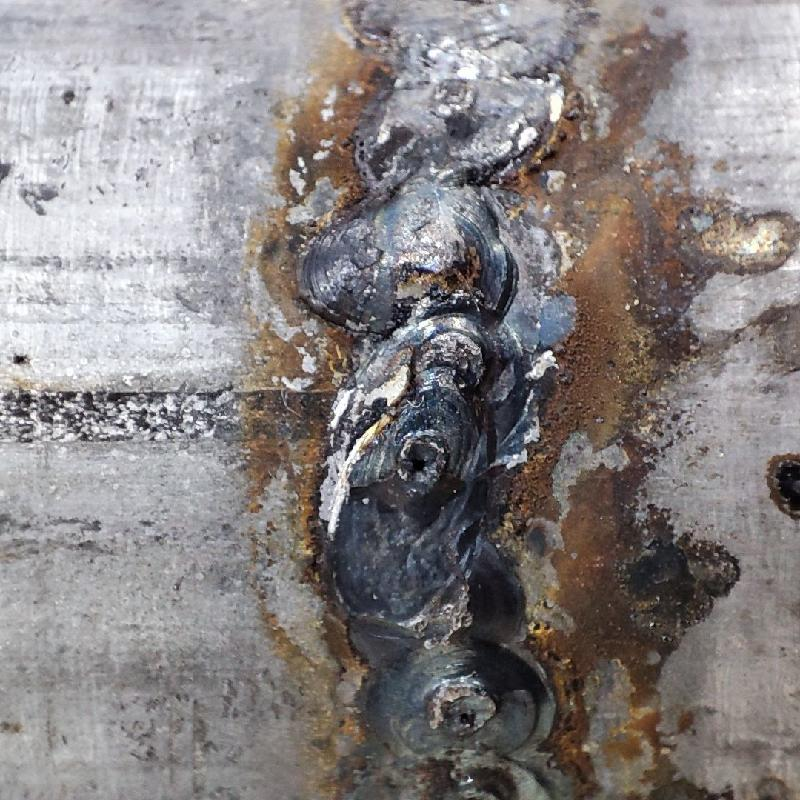Surface_pores: (393, 432, 450, 497), (442, 687, 498, 745)
